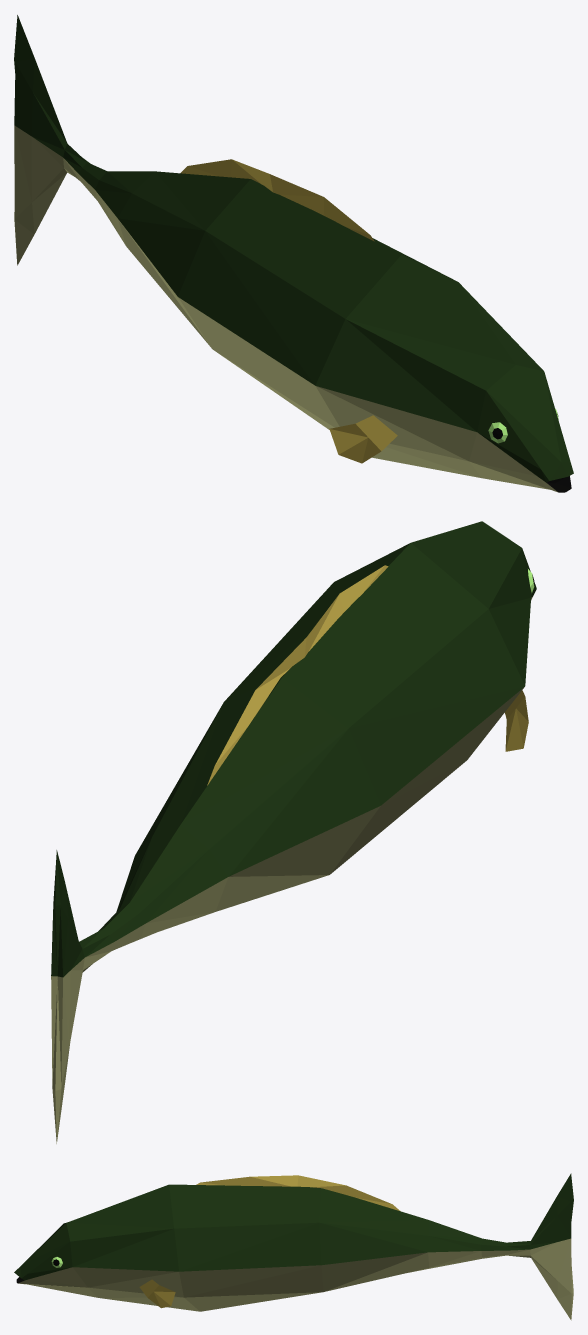
File: Minnow_000006.obj
3 renders of one model, top to bottom at view 1: azimuth 30°, elevation 25°; view 2: azimuth 150°, elevation 25°; view 3: azimuth 270°, elevation 25°, orthographic. The views are drawn at different scales.
Bounding box in the file's own units: 0.6955 × 0.9146 × 3.03.
